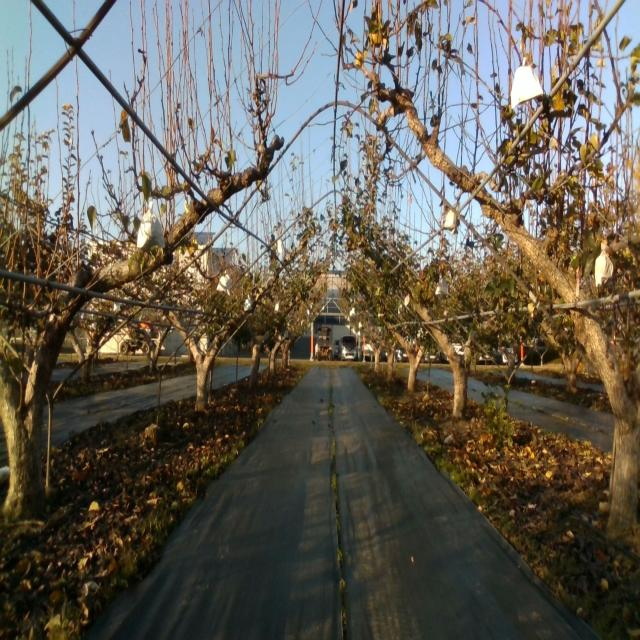pearbags: (510, 57, 543, 108), (137, 201, 164, 250), (594, 240, 613, 288), (216, 270, 231, 297), (444, 210, 457, 234), (435, 276, 449, 294)
